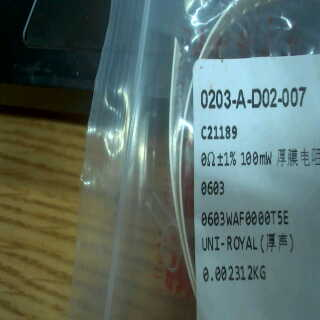0R: (197, 147, 274, 202)
